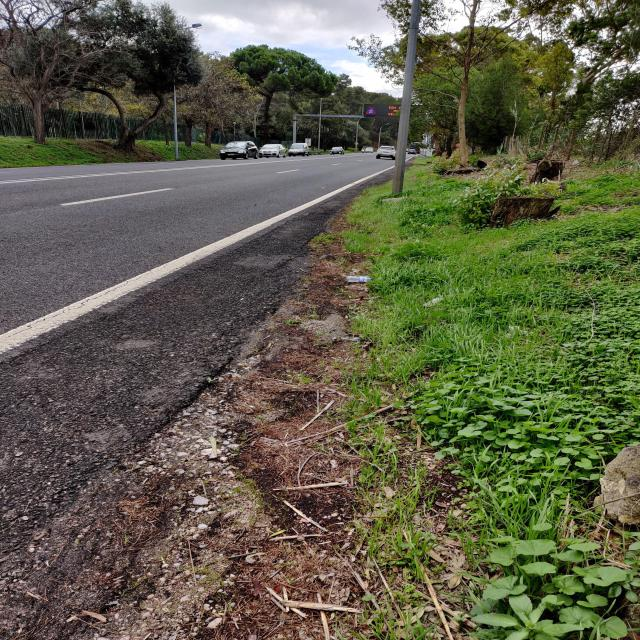litter: (328, 266, 381, 295)
